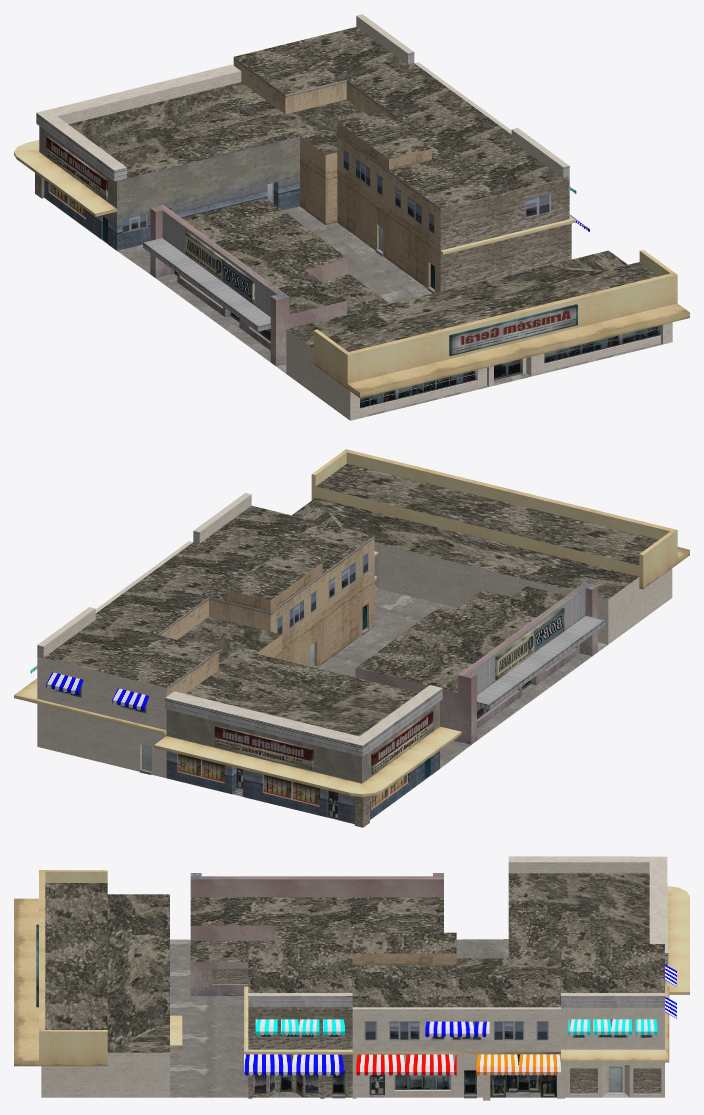
Rendered from sw_shopflat04.obj.
The picture shows the model from 3 angles, top to bottom: view 1: azimuth 30°, elevation 25°; view 2: azimuth 150°, elevation 25°; view 3: azimuth 270°, elevation 25°; orthographic projection.
Parts seen in each view (by area): view 1: sw_shopflat04; view 2: sw_shopflat04; view 3: sw_shopflat04.
Boxes of the visible parts, x1,y1,x2,y2 form: sw_shopflat04: (14,14,689,420); sw_shopflat04: (14,449,689,827); sw_shopflat04: (14,856,689,1100).
Size of the model in its own units: 34.04 by 9.01 by 54.2.
Materials: 23 (23 with a texture image).
